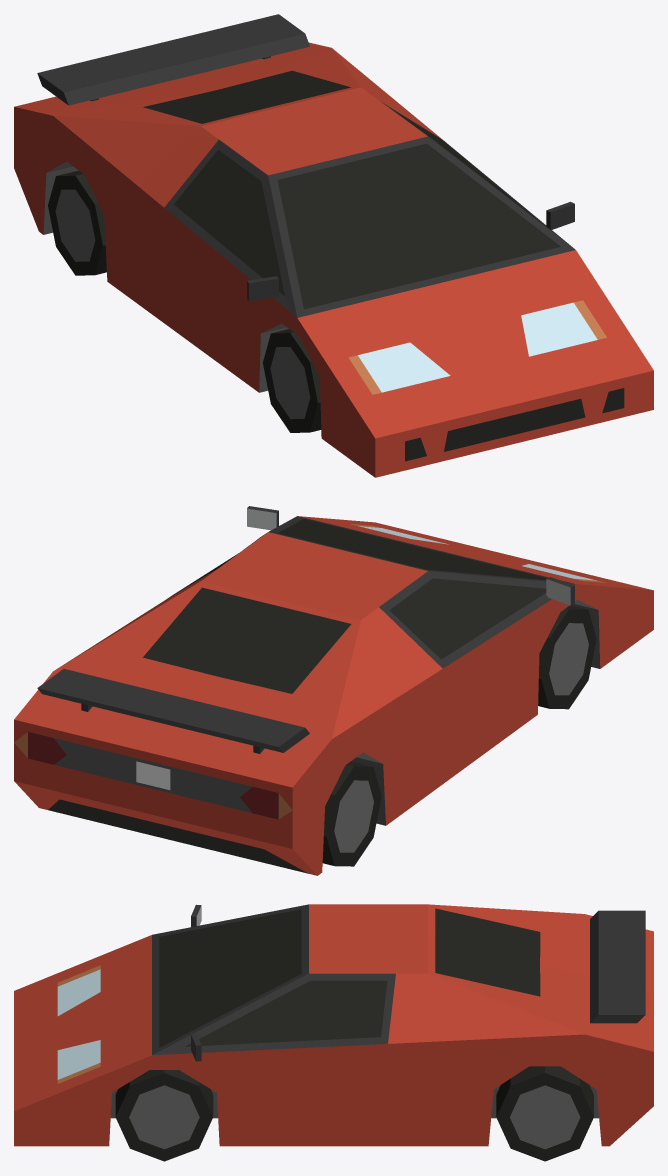
File: Veh_Sports_Car_02_Red.glb
The picture shows the model from 3 angles, top to bottom: view 1: azimuth 30°, elevation 25°; view 2: azimuth 150°, elevation 25°; view 3: azimuth 270°, elevation 25°; orthographic projection. The views are drawn at different scales.
Parts seen in each view (by area): view 1: Sports_Car_02_Red, Wheel_RR, Wheel_FR; view 2: Sports_Car_02_Red, Wheel_RR, Wheel_FR; view 3: Sports_Car_02_Red, Wheel_RL, Wheel_FL.
Boxes of the visible parts, <box> form: Sports_Car_02_Red: <box>14,14,653,477</box>; Wheel_RR: <box>48,170,106,275</box>; Wheel_FR: <box>263,329,321,432</box>; Sports_Car_02_Red: <box>14,506,653,875</box>; Wheel_RR: <box>322,761,381,866</box>; Wheel_FR: <box>538,605,596,709</box>; Sports_Car_02_Red: <box>14,904,653,1146</box>; Wheel_RL: <box>496,1066,593,1161</box>; Wheel_FL: <box>115,1070,213,1161</box>.
Bounding box in the file's own units: 1.28 × 0.6906 × 2.47.
Materials: 1 (1 with a texture image).
